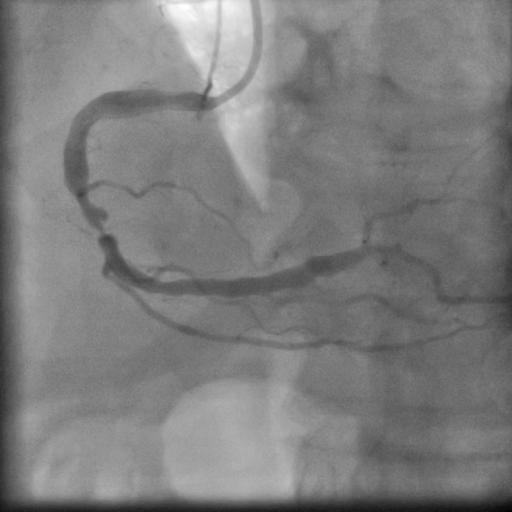Stenosis: (73, 200, 120, 246)
